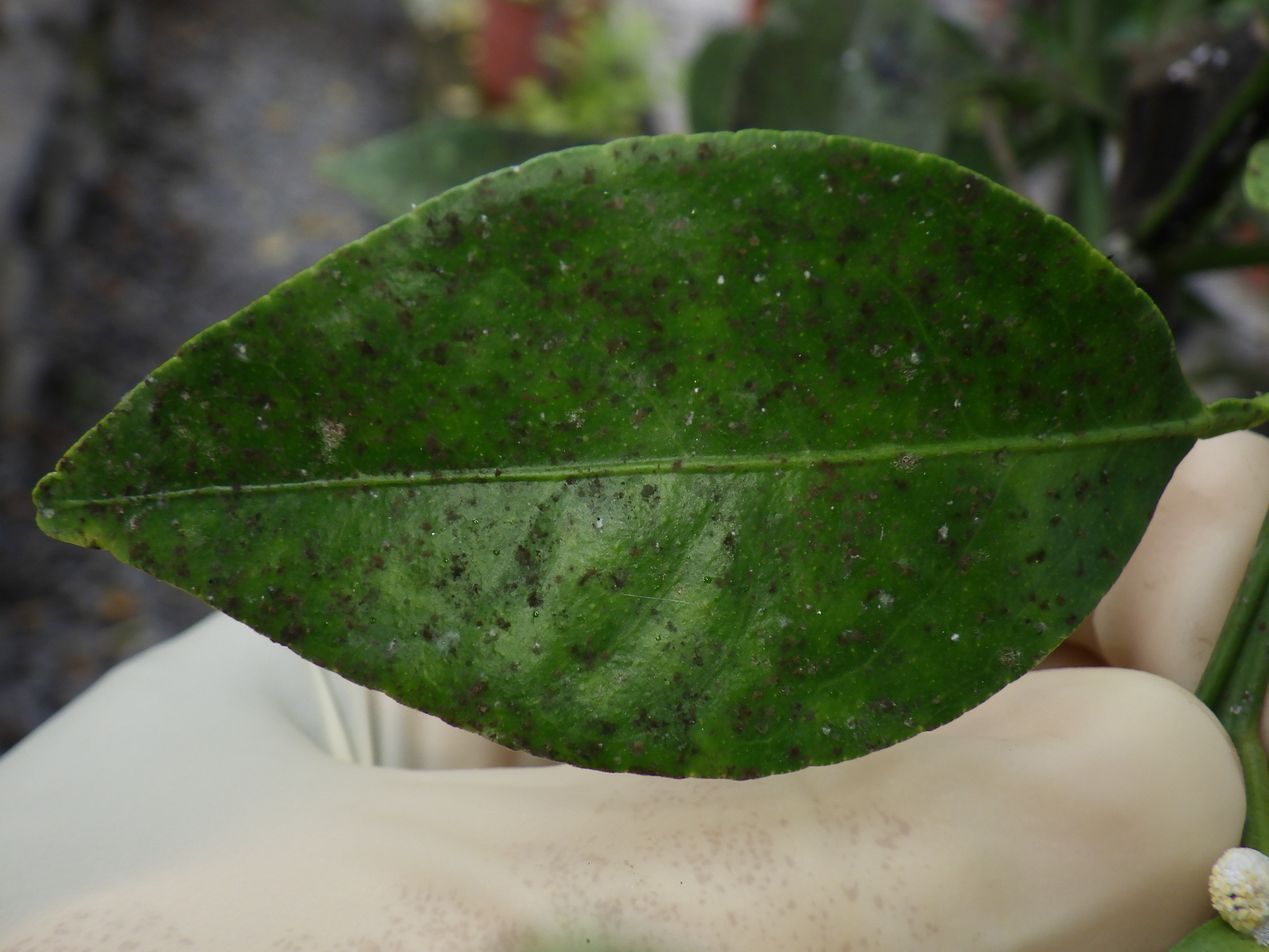Sooty_Mold: (34, 129, 1268, 778)
